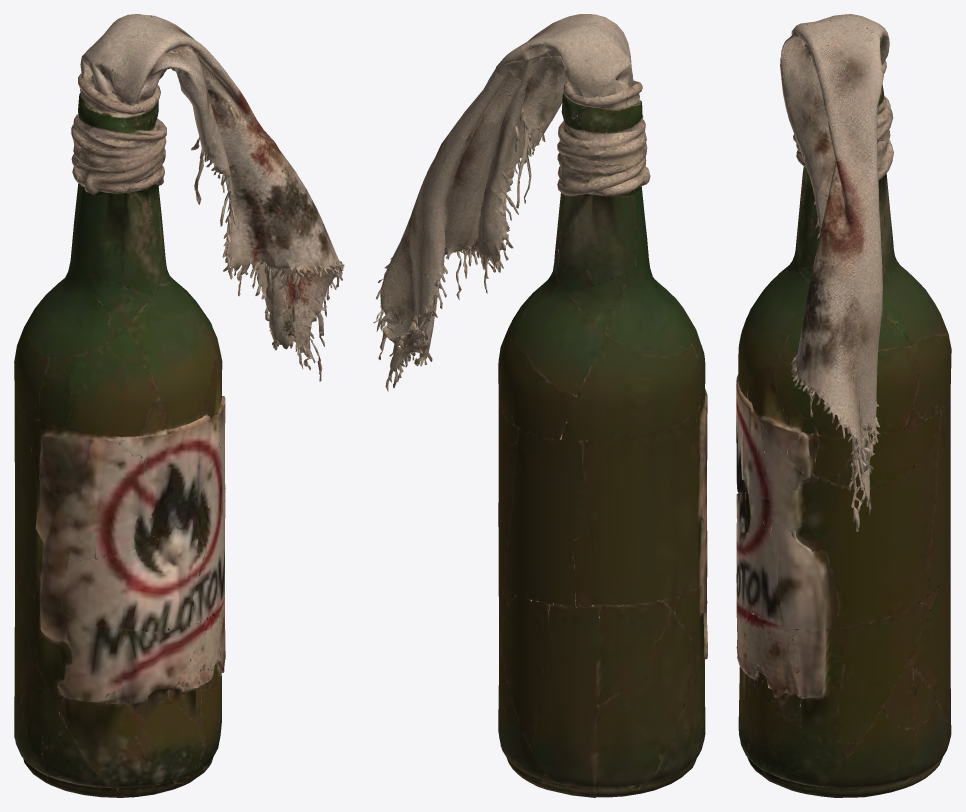
Rendered from molotof.glb.
3 renders of one model, left to right at view 1: azimuth 30°, elevation 25°; view 2: azimuth 150°, elevation 25°; view 3: azimuth 270°, elevation 25°, orthographic. The views are drawn at different scales.
Visible parts, largest first — view 1: mesh_node; view 2: mesh_node; view 3: mesh_node.
Boxes of the visible parts, bbox=[...] form: mesh_node: bbox=[14, 14, 344, 797]; mesh_node: bbox=[373, 14, 707, 797]; mesh_node: bbox=[736, 14, 951, 797].
Bounding box in the file's own units: 0.8507 × 1.9 × 0.4918.
1 material, 1 textured.
